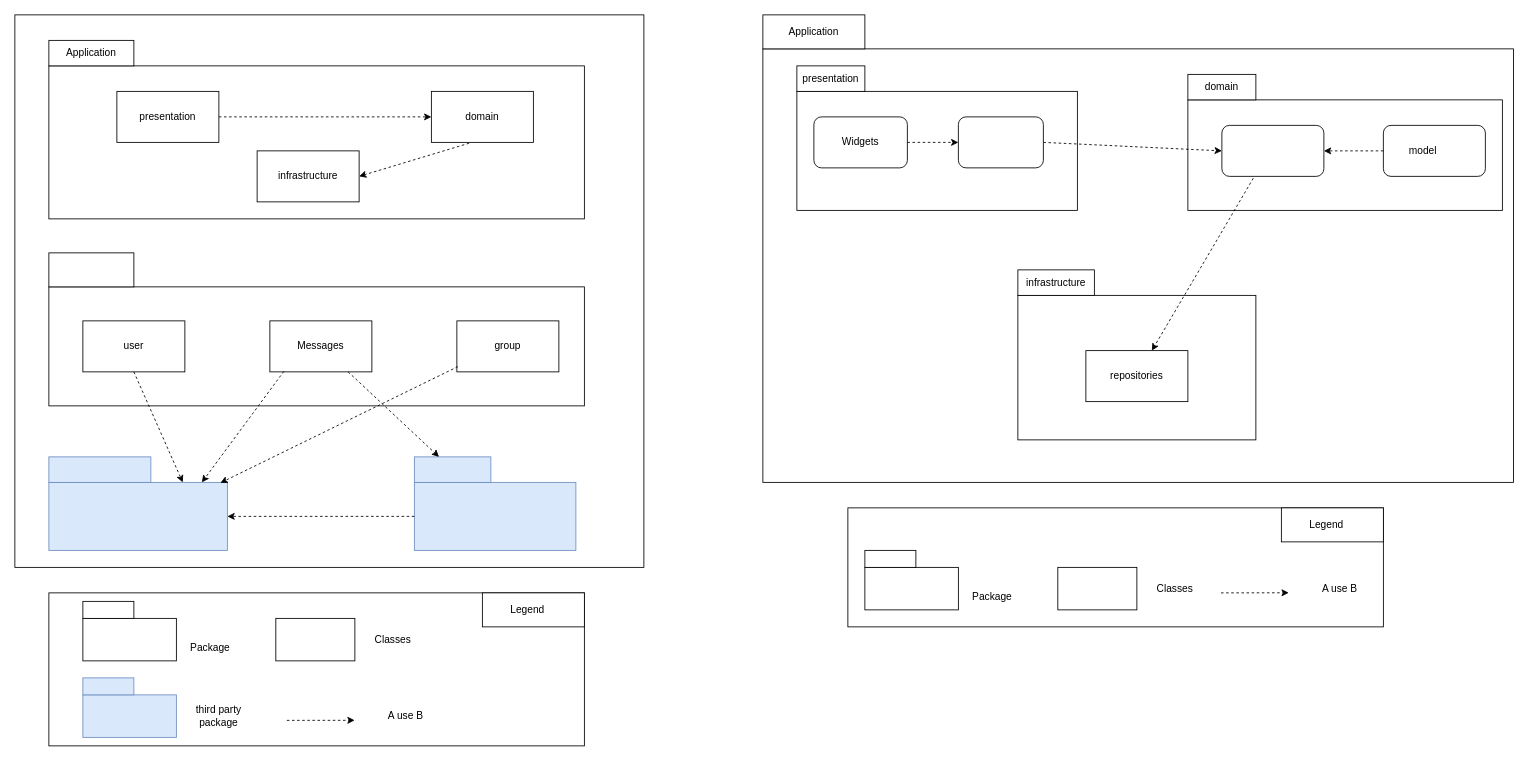
The diagram is 1528 pixels wide and 761 high, and some of its shapes have lost their labels. The shapes that lost their labels are listed below. From the top down, each one's centre as x and y in pixels, then its label:
At pixel 1000 142: "PageView".
At pixel 1272 150: "interfface".
At pixel 91 269: "service".
At pixel 99 469: "Database".
At pixel 452 469: "Socket".
